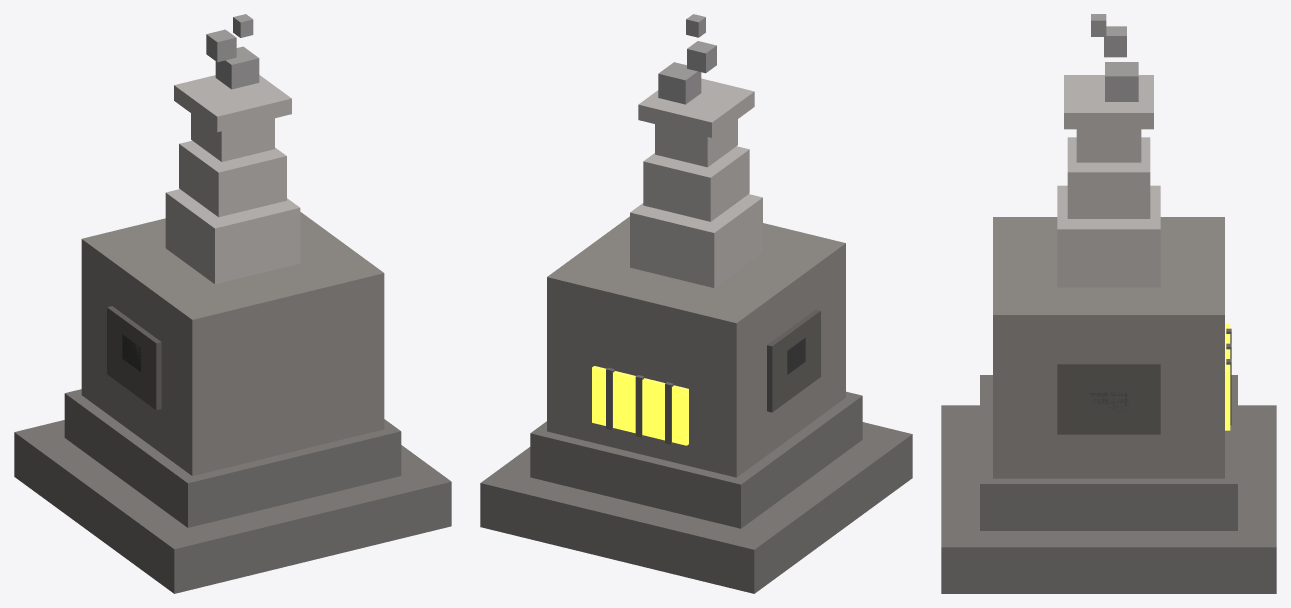
Rendered from local_slm.glb.
3 renders of one model, left to right at view 1: azimuth 30°, elevation 25°; view 2: azimuth 150°, elevation 25°; view 3: azimuth 270°, elevation 25°, orthographic. The views are drawn at different scales.
Parts seen in each view (by area): view 1: furnace_body, base1, base2, chimney1, chimney2, chimney_cap, ore_L, chimney3, smoke1, smoke2; view 2: furnace_body, base1, base2, chimney1, chimney2, fire_mouth, chimney_cap, ore_L, chimney3, smoke1, smoke2; view 3: furnace_body, base1, base2, chimney1, ore_R, chimney2, chimney_cap, chimney3, smoke1, smoke2, fire_mouth.
Boxes of the visible parts, x1,y1,x2,y2 form: furnace_body: (81,212,384,475); base1: (14,420,451,593); base2: (64,389,401,527); chimney1: (165,189,300,284); chimney2: (179,140,286,217); chimney_cap: (174,75,291,132); ore_L: (107,306,161,410); chimney3: (191,113,274,161); smoke1: (215,46,259,89); smoke2: (206,29,236,62); furnace_body: (547,216,845,477); base1: (480,422,912,593); base2: (530,391,862,528); chimney1: (630,194,762,287); chimney2: (643,146,749,221); fire_mouth: (592,366,688,445); chimney_cap: (638,78,754,137); ore_L: (767,309,820,412); chimney3: (655,119,737,167); smoke1: (658,62,701,104); smoke2: (687,41,716,73); furnace_body: (993,217,1224,478); base1: (941,405,1276,593); base2: (980,375,1237,530); chimney1: (1057,185,1160,287); ore_R: (1057,361,1160,434); chimney2: (1067,137,1150,218); chimney_cap: (1064,75,1153,129); chimney3: (1076,129,1141,162); smoke1: (1105,62,1138,101); smoke2: (1104,26,1126,57); fire_mouth: (1225,323,1230,430).
Bounding box in the file's own units: 2.6 × 4.35 × 2.6.
